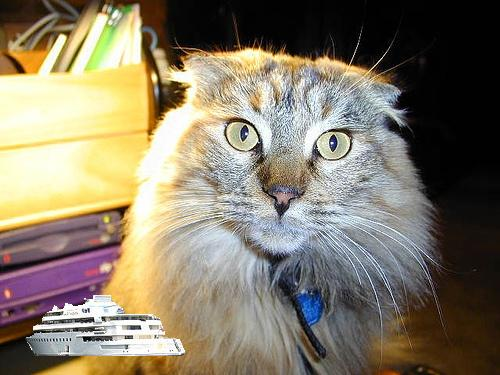tampered: (26, 296, 185, 356)
